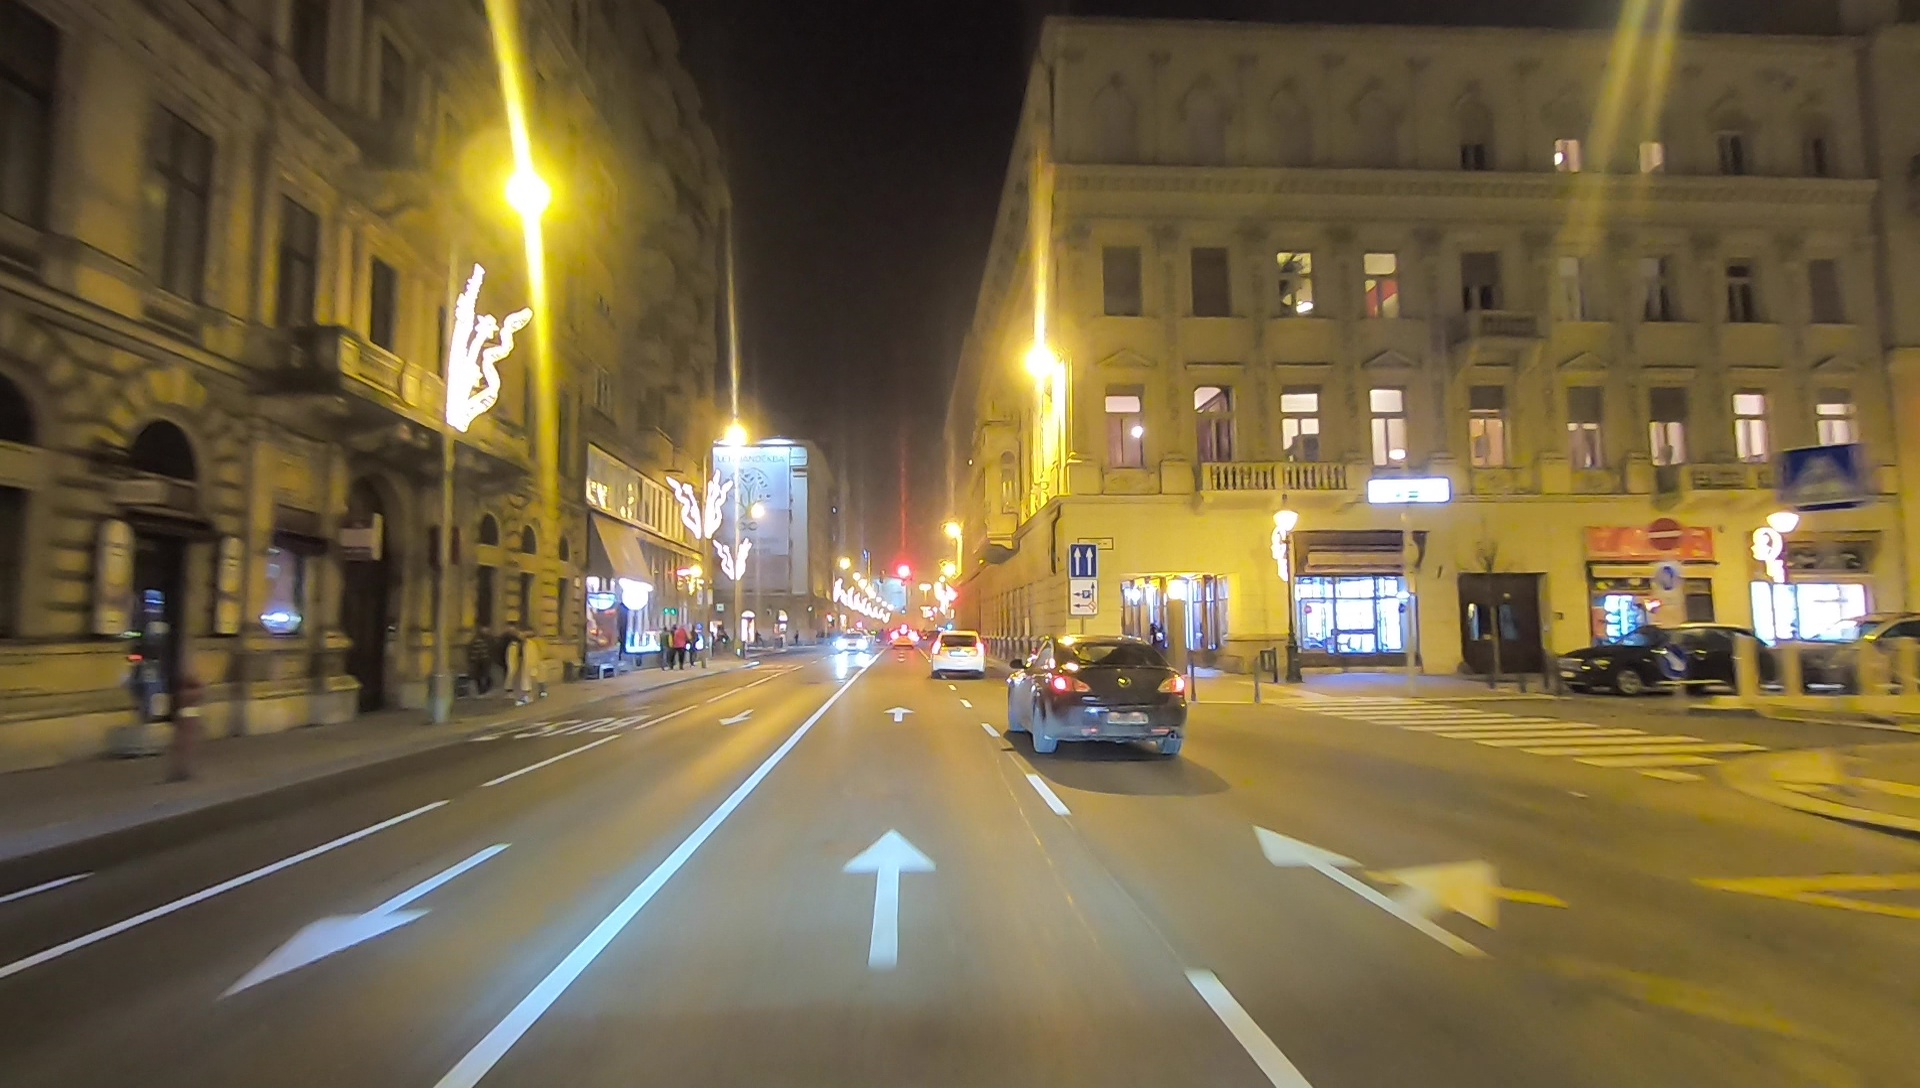person: (669, 623, 686, 671), (658, 624, 671, 671)
